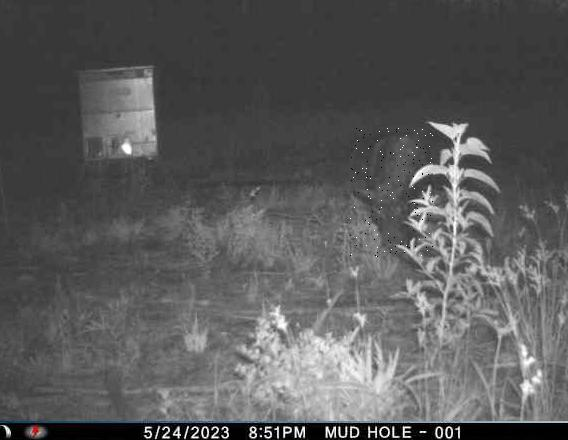Hog: (351, 127, 434, 260)
